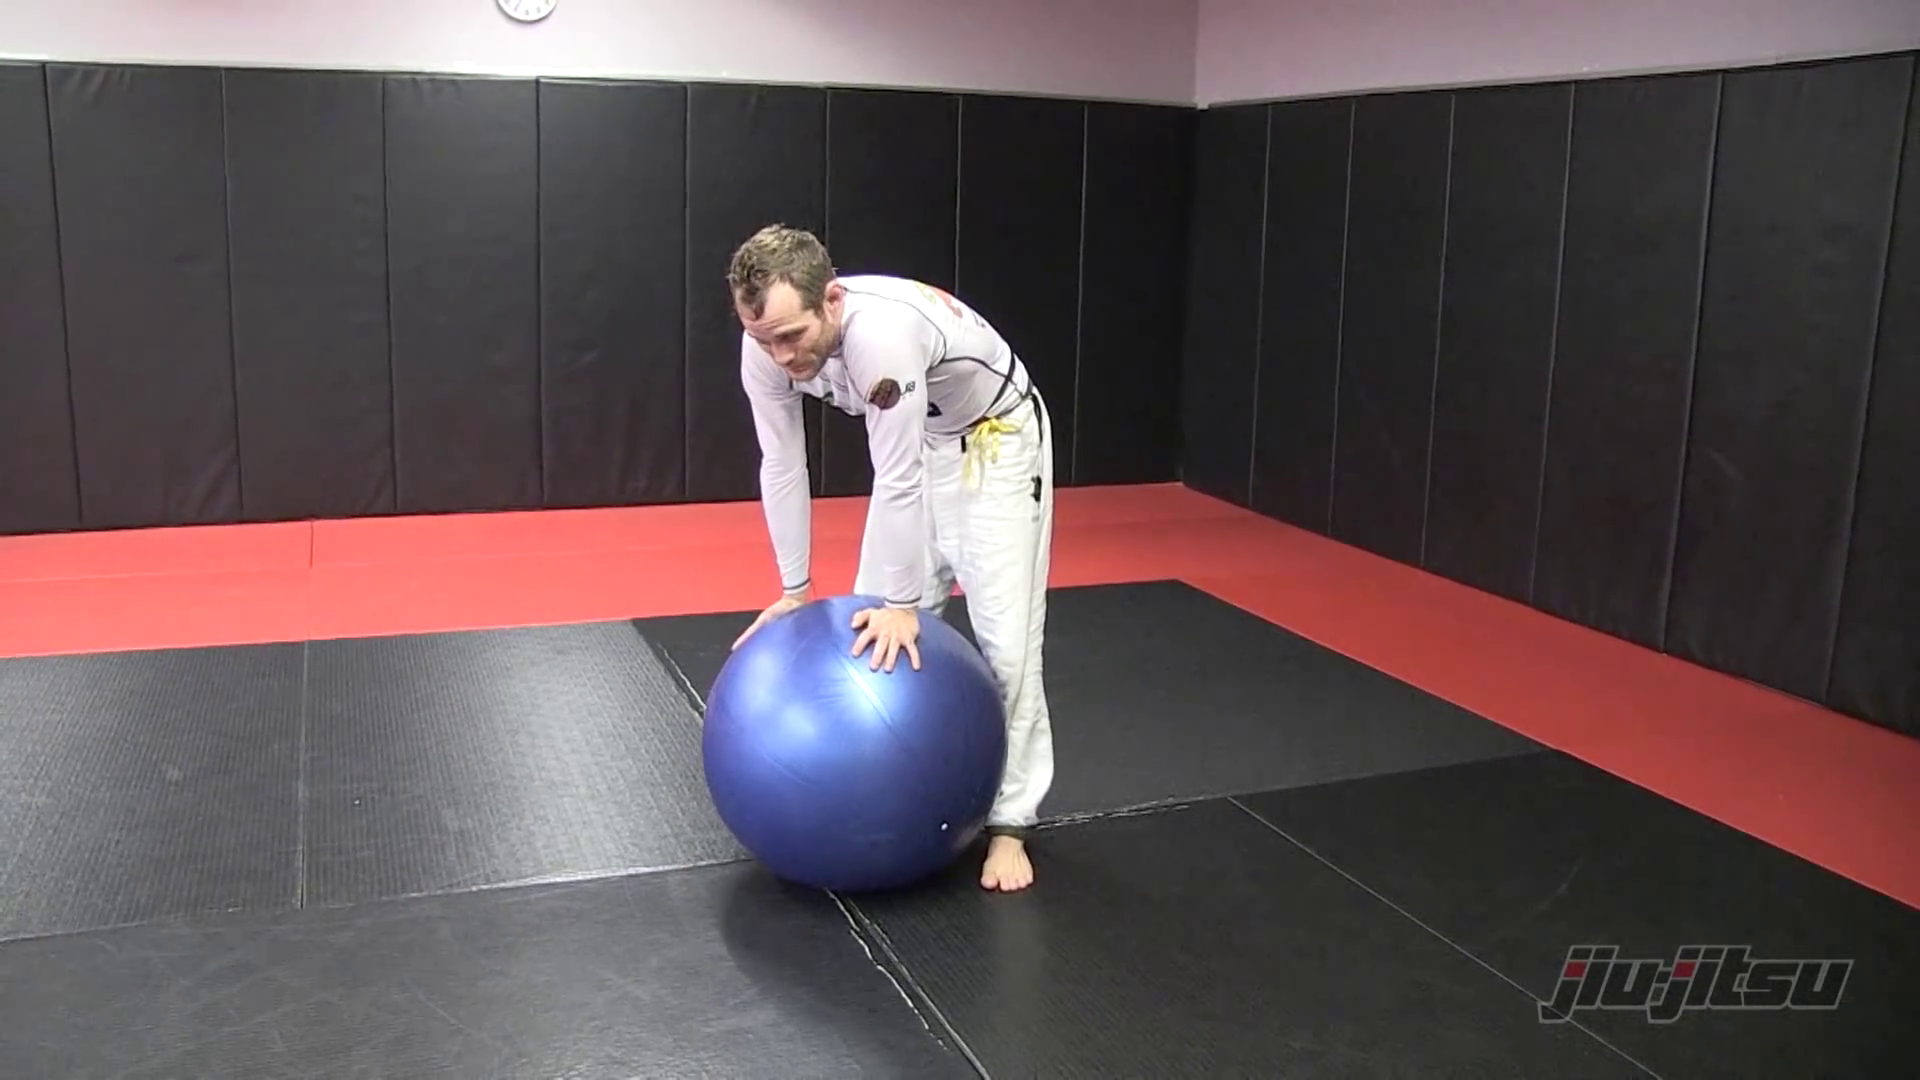yogaball: (678, 600, 1027, 909)
